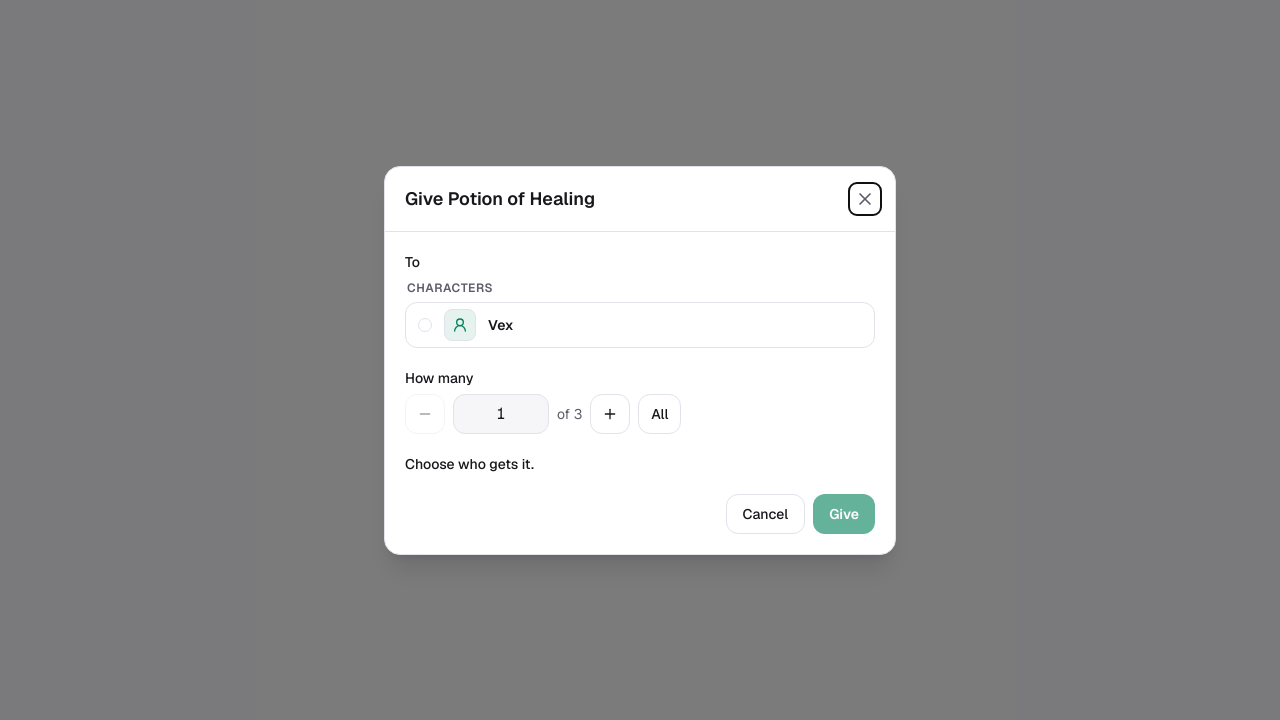
Scenario: components/transfers/move-dialog › makes no move without someone to get it, and says so
This screenshot has width=1280, height=720.
expect the text "Choose who gets it." is shown: met, box [405,454,534,472]
expect the text "Foundry’s chat will say so." is not shown: met
Click the button "Give" at (844, 514), box [813,494,875,534]
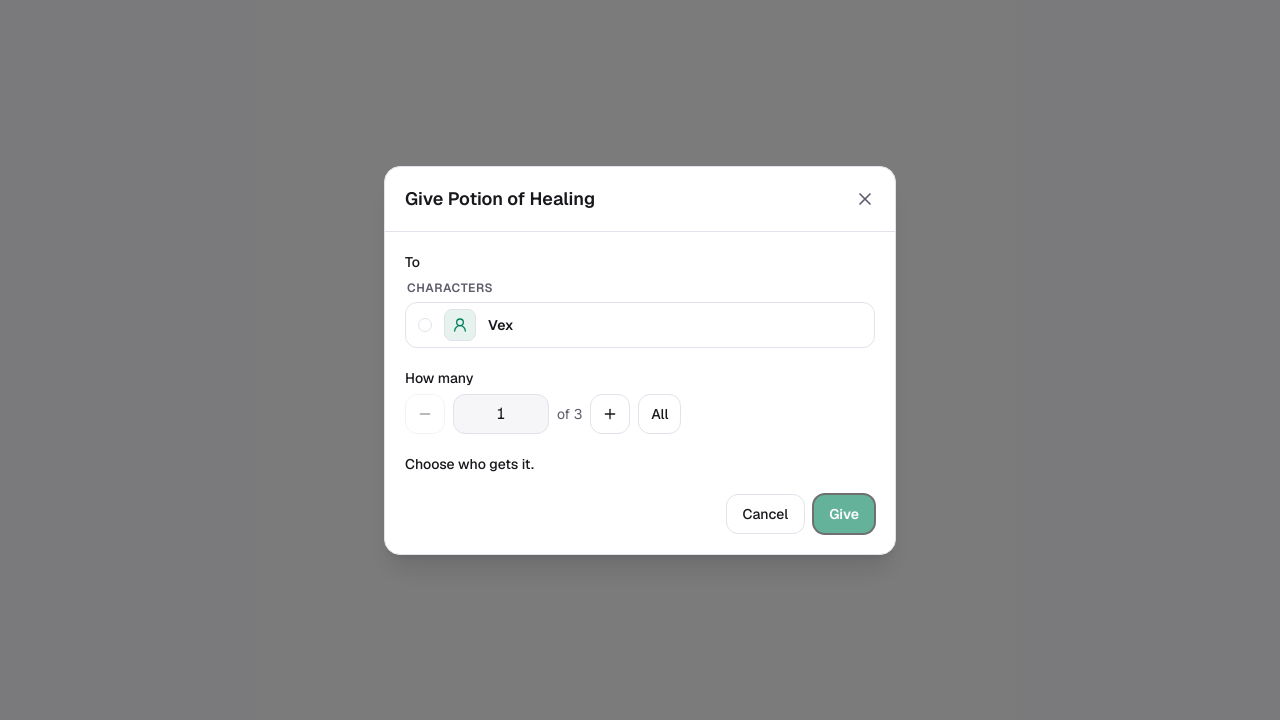
Click the radio button labelled "Vex" at (640, 324), box [405,302,875,348]
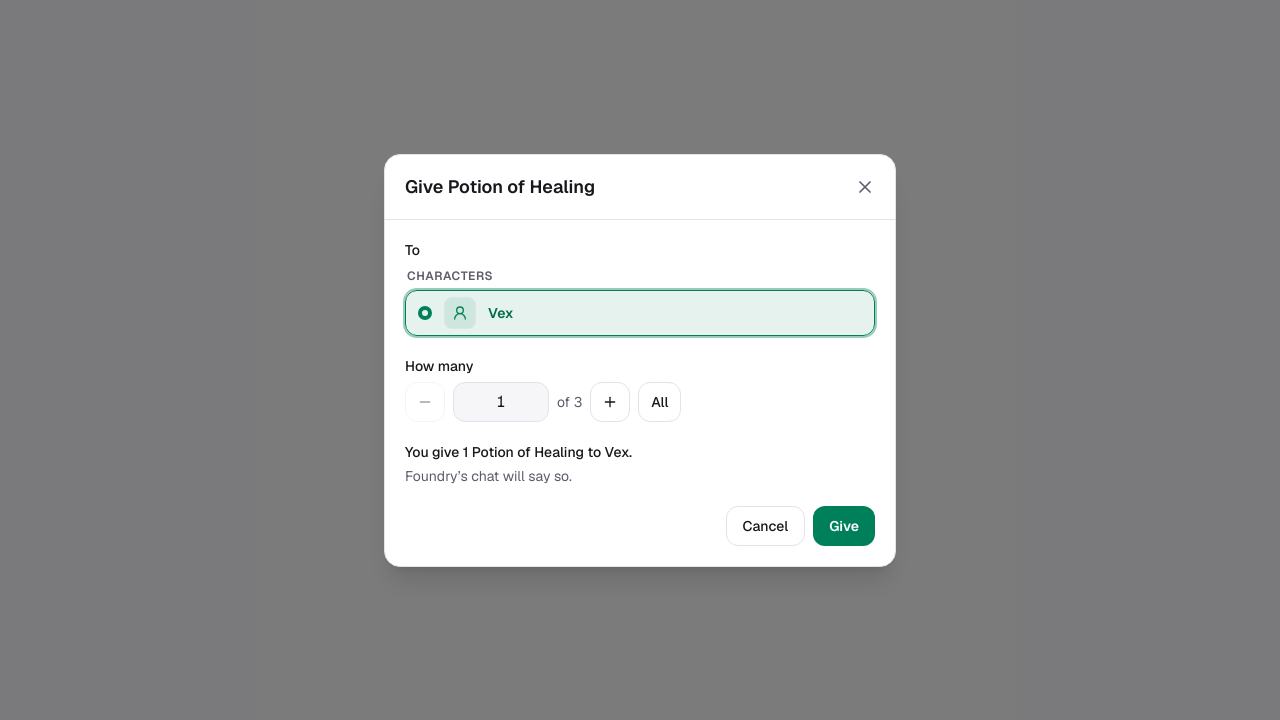
expect the text "You give 1 Potion of Healing to Vex." is shown: met, box [405,442,632,460]
